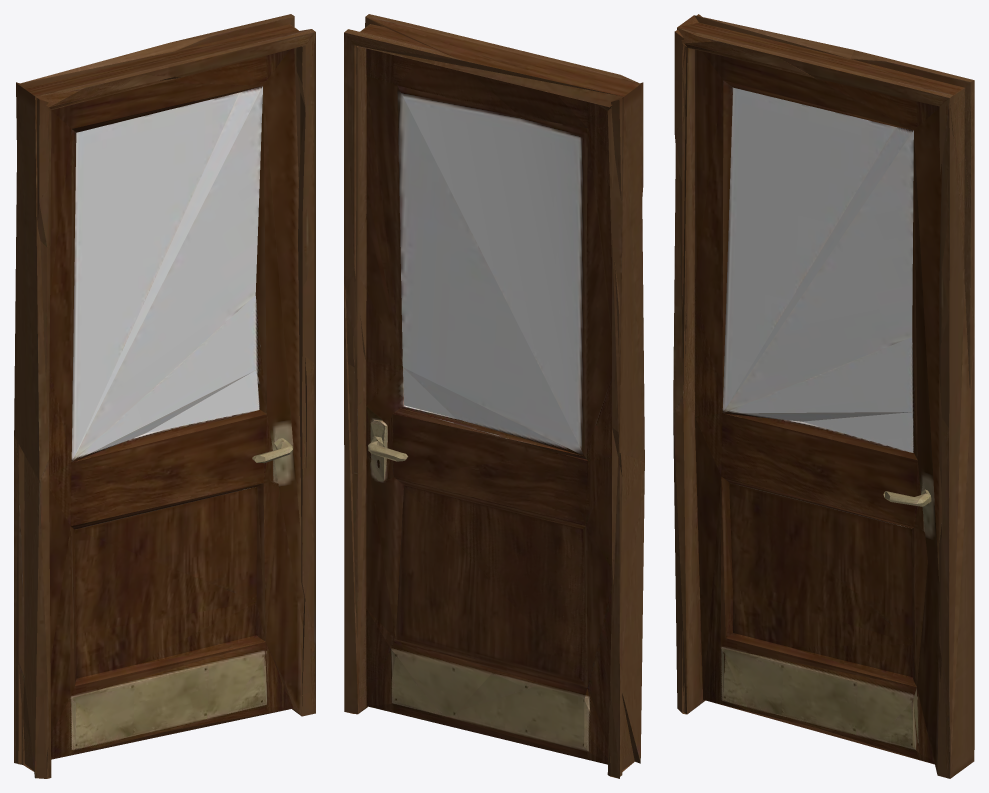
File: door.glb
3 views of the same model, side by side, from view 1: azimuth 30°, elevation 25°; view 2: azimuth 150°, elevation 25°; view 3: azimuth 330°, elevation 25° (orthographic).
Visible parts, largest first — view 1: Mesh_0; view 2: Mesh_0; view 3: Mesh_0.
Part boxes in pixels (x1,y1,x2,y2): Mesh_0: (14, 14, 315, 778); Mesh_0: (344, 14, 644, 778); Mesh_0: (673, 14, 974, 778).
Size of the model in its own units: 0.8083 by 1.9 by 0.1722.
Materials: 1 (1 with a texture image).
